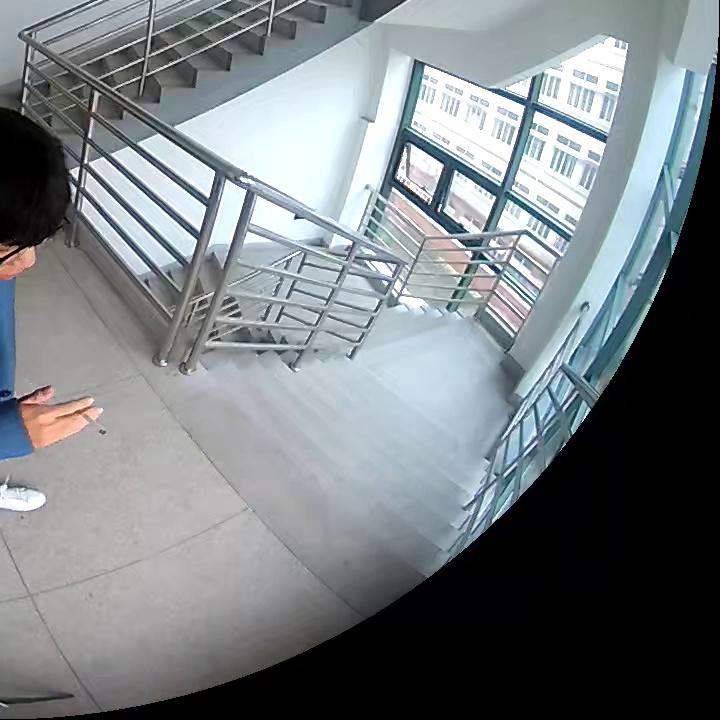handsmoke: (19, 383, 108, 446)
mouthwithoutsmoke: (1, 105, 71, 280)
